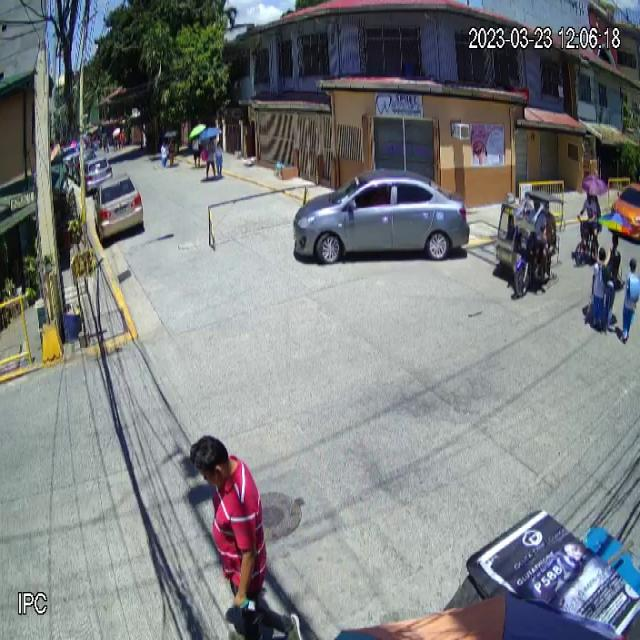Car: (292, 167, 470, 264)
Tricycle: (494, 182, 560, 298)
